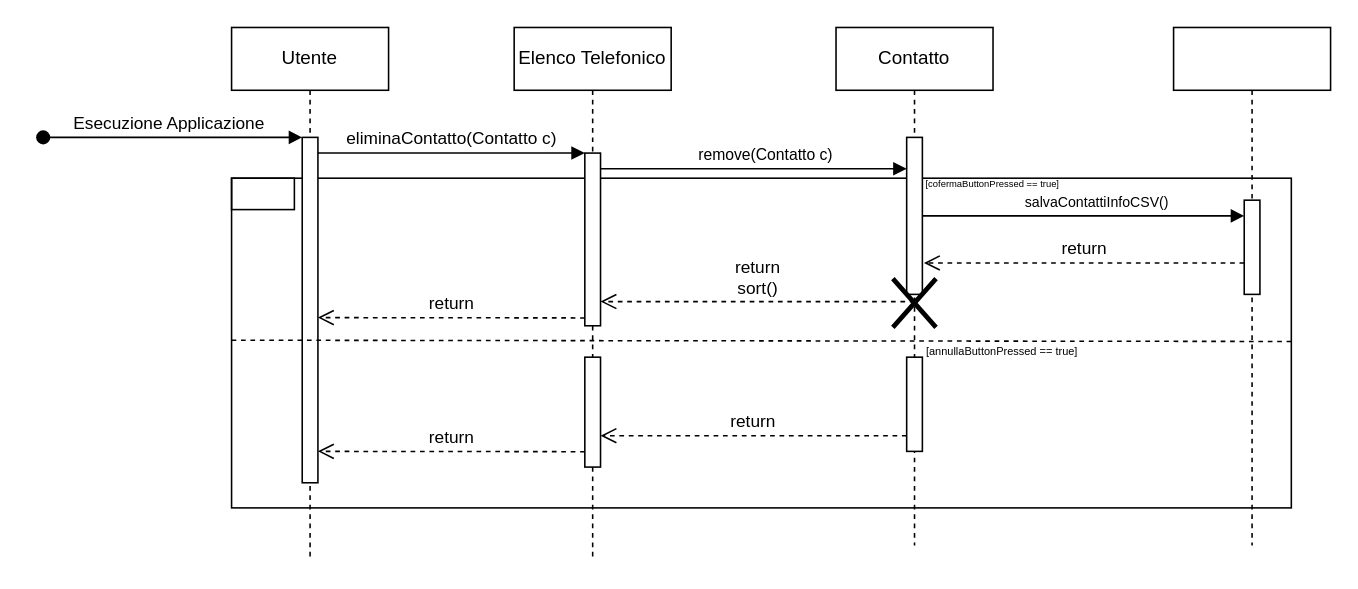
The diagram is 1358 pixels wide and 589 high, and some of its shapes have lost their labels. Here are the shapes that lost their labels. From the top down, the centre of each, then its label:
point (262, 193): alt
point (1251, 286): GestioneFileEsternoContatti
